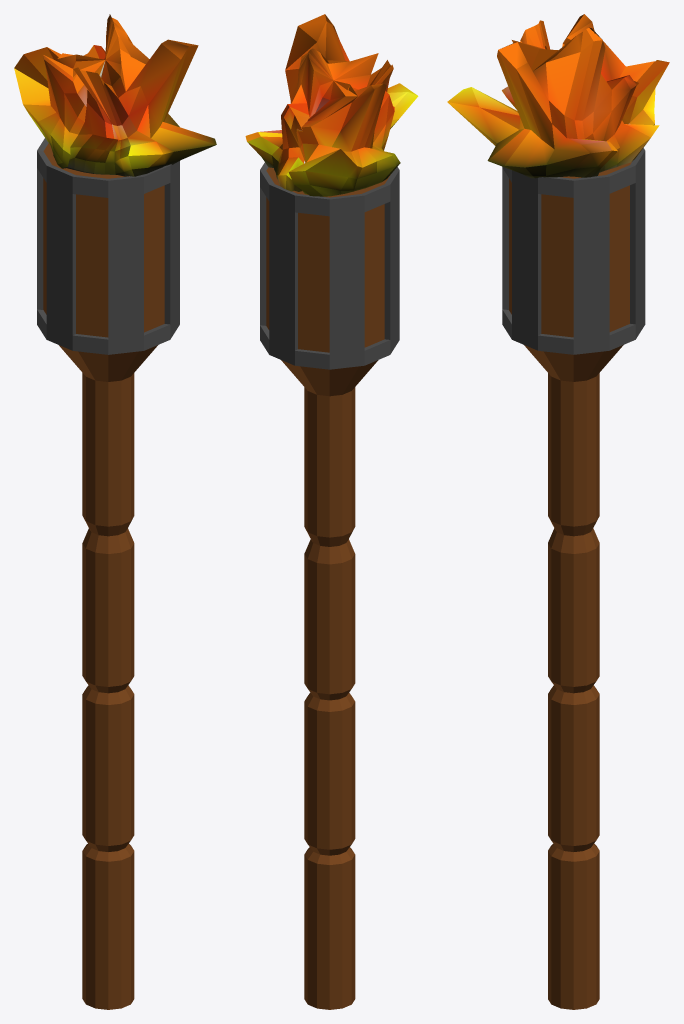
File: Torch.fbx.fbx
3 renders of one model, left to right at view 1: azimuth 30°, elevation 25°; view 2: azimuth 150°, elevation 25°; view 3: azimuth 270°, elevation 25°, orthographic. The views are drawn at different scales.
Visible parts, largest first — view 1: Cylinder, Sphere; view 2: Cylinder, Sphere; view 3: Cylinder, Sphere.
Part boxes in pixels (x1,y1,x2,y2): Cylinder: (37,138,179,1009); Sphere: (14,14,216,176); Cylinder: (260,162,399,1009); Sphere: (245,14,418,196); Cylinder: (502,148,645,1009); Sphere: (447,14,669,178).
Size of the model in its own units: 0.8913 by 6.22 by 1.29.
